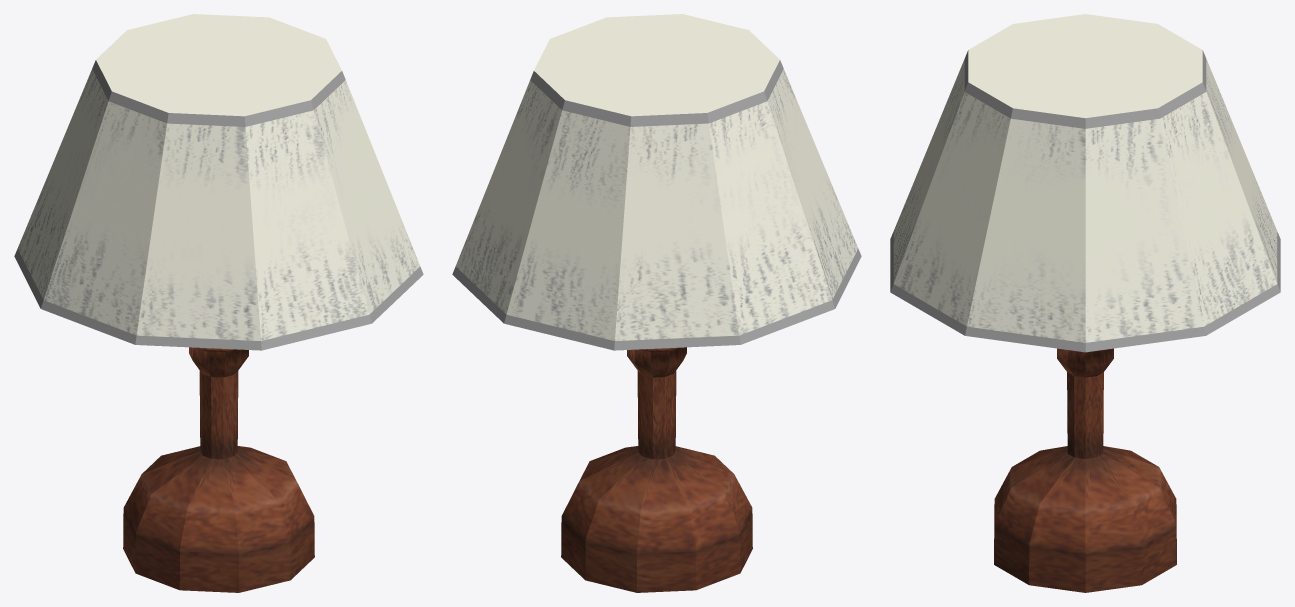
Rendered from Lamp04.fbx.
3 renders of one model, left to right at view 1: azimuth 30°, elevation 25°; view 2: azimuth 150°, elevation 25°; view 3: azimuth 270°, elevation 25°, orthographic.
Visible parts, largest first — view 1: lamp04; view 2: lamp04; view 3: lamp04.
Part boxes in pixels (x1,y1,x2,y2): lamp04: (14,14,423,592); lamp04: (452,14,861,592); lamp04: (890,14,1280,592).
Size of the model in its own units: 3.74 by 4.89 by 3.55.
2 materials, 2 textured.
